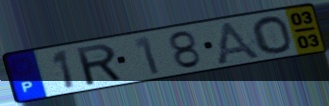1: (49, 48, 77, 92), (134, 34, 162, 76)
8: (167, 30, 202, 69)
A: (213, 19, 265, 65)
O: (250, 15, 295, 55)
R: (73, 42, 125, 87)
